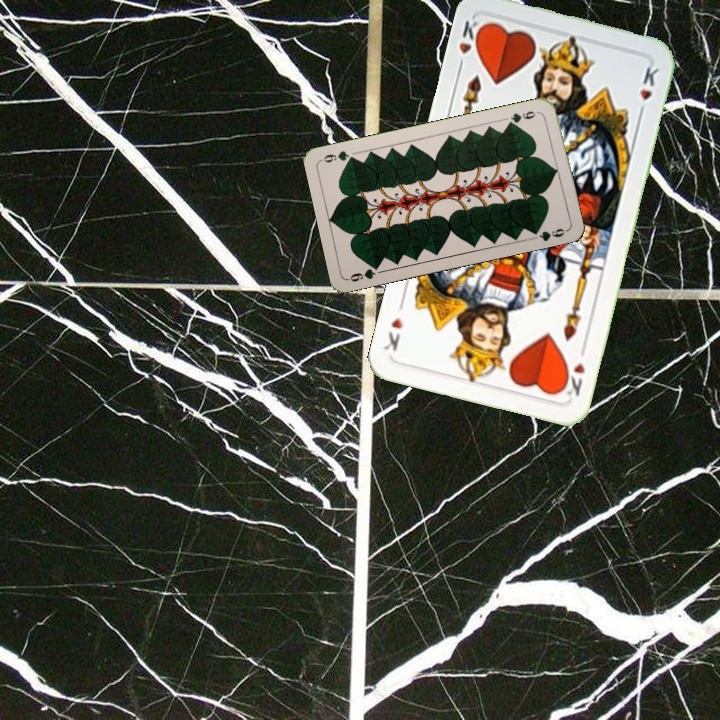G9: (344, 260, 383, 284), (503, 107, 542, 128)
HK: (454, 16, 487, 73), (557, 342, 589, 399)
